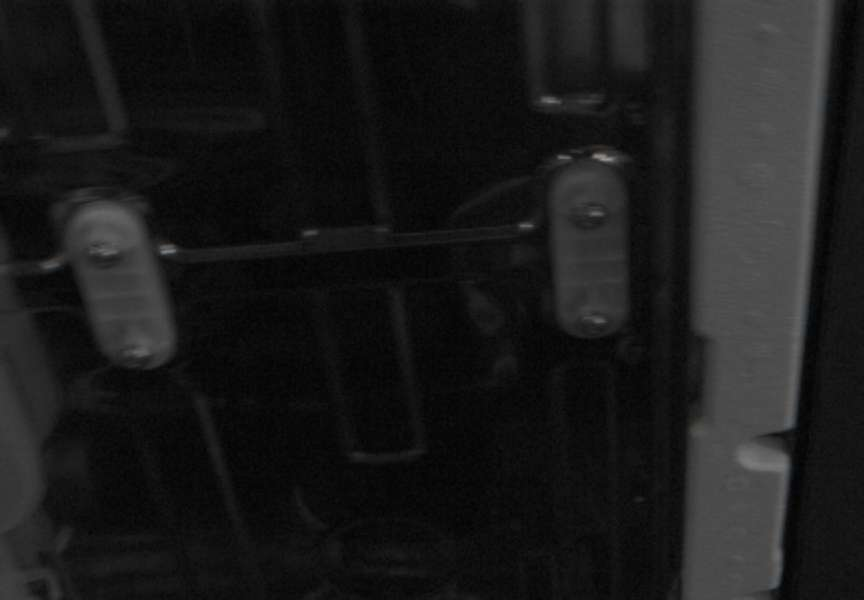screw: (568, 202, 609, 230), (86, 241, 123, 267), (117, 344, 153, 369), (578, 311, 612, 337)
